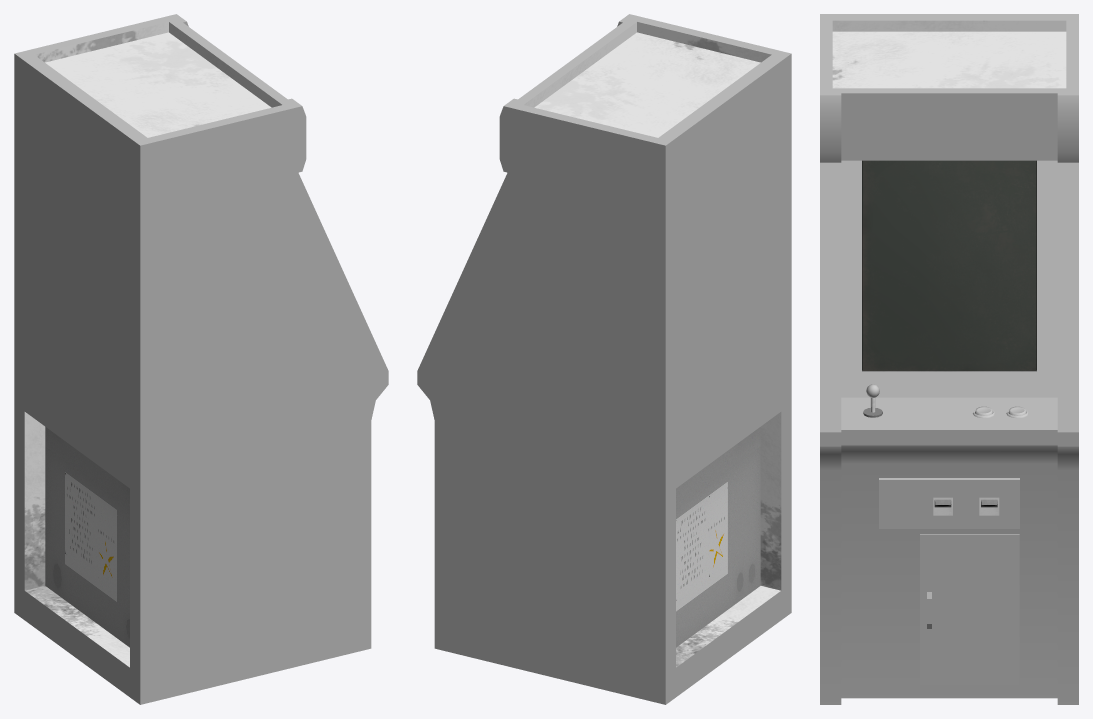
The model's file is Arcade Gangaloon.fbx.
3 renders of one model, left to right at view 1: azimuth 30°, elevation 25°; view 2: azimuth 150°, elevation 25°; view 3: azimuth 270°, elevation 25°, orthographic. The views are drawn at different scales.
Visible parts, largest first — view 1: Cube.002; view 2: Cube.002; view 3: Cube.002.
Part boxes in pixels (x1,y1,x2,y2): Cube.002: (14, 14, 388, 704); Cube.002: (417, 14, 791, 704); Cube.002: (820, 14, 1078, 704).
Size of the model in its own units: 70.77 by 152 by 62.11.
